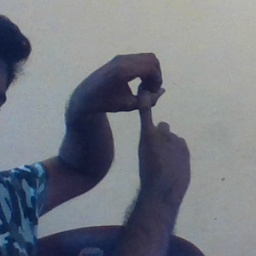Q: (73, 46, 192, 173)
